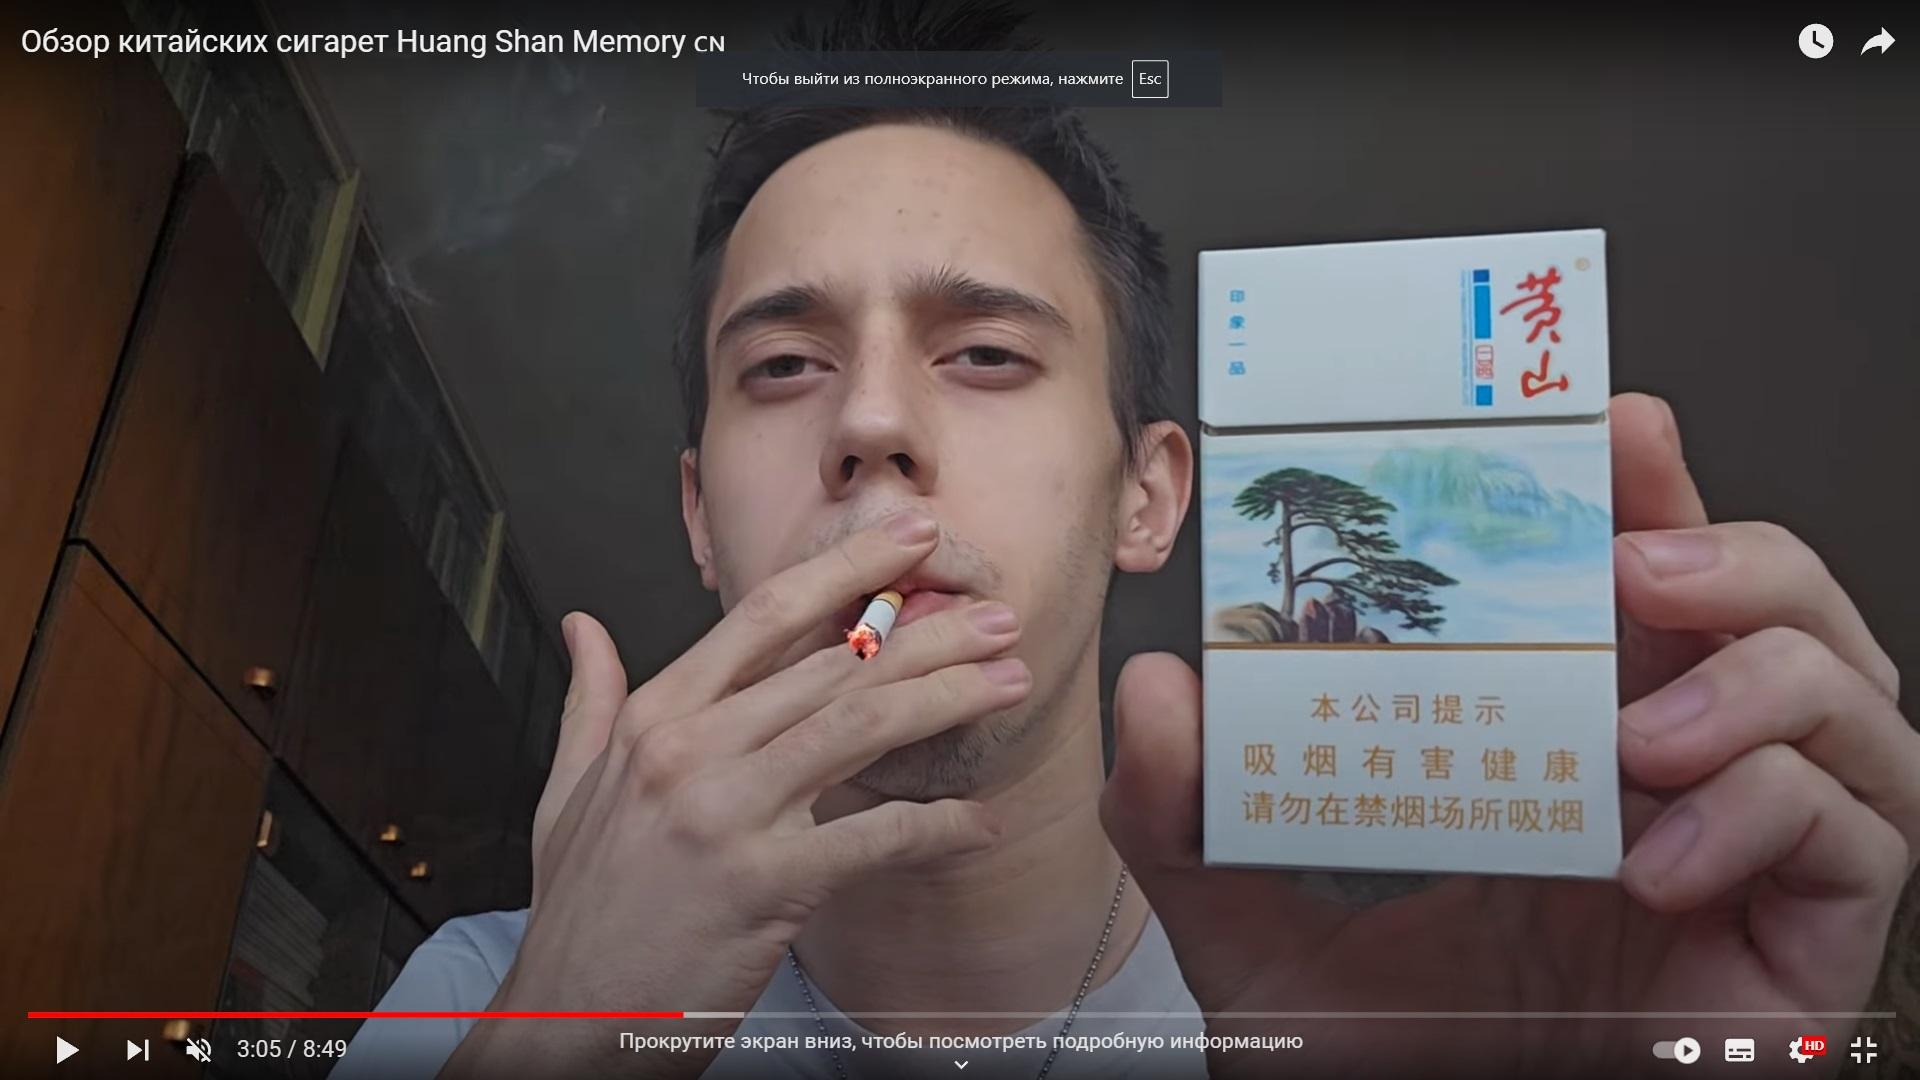cigarette: (845, 588, 906, 659)
